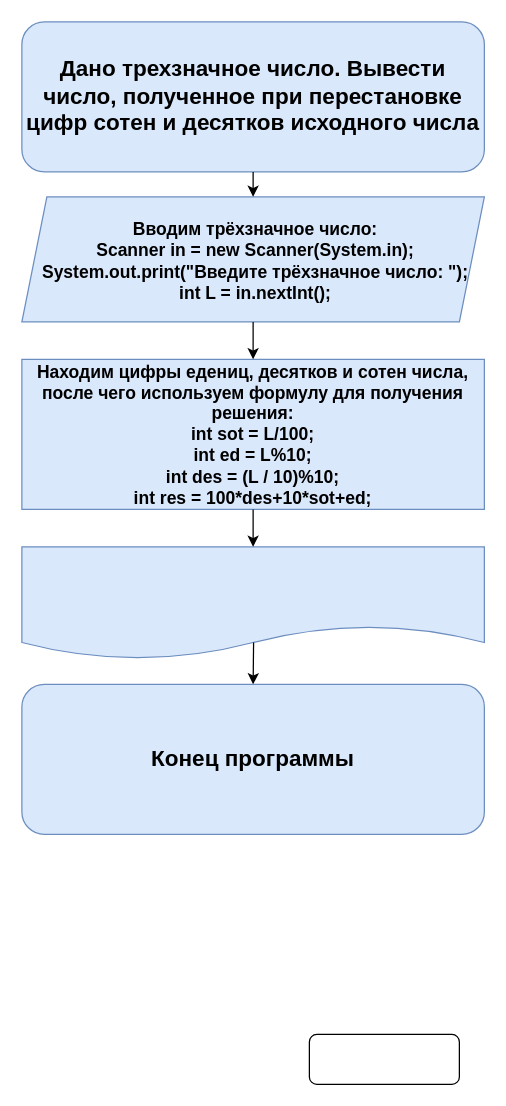
The diagram is 506 pixels wide and 1106 high, and some of its shapes have lost their labels. Each missing label, with the centre of its shape:
Repair Lamp: (x=383, y=1058)
Выводим в консоль результат: System.out.println("Результат: " + res);: (x=252, y=602)
